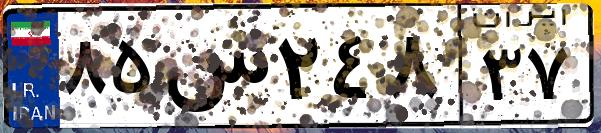2: (270, 28, 330, 110)
3: (475, 38, 525, 113)
4: (330, 28, 385, 110)
5: (110, 28, 158, 98)
7: (525, 38, 570, 115)
8: (385, 28, 445, 110), (57, 26, 110, 100)
س: (158, 20, 270, 120)
